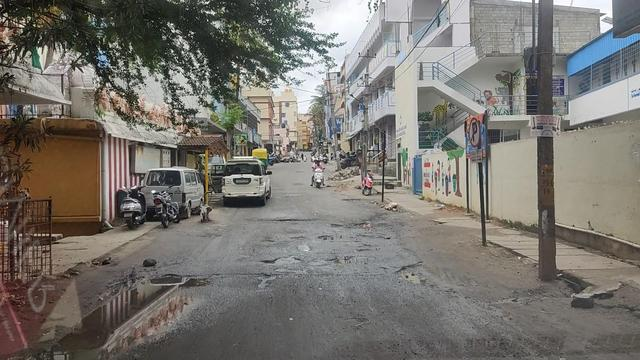LMV: (311, 156, 324, 192)
RoadDamages: (82, 259, 207, 338), (394, 255, 434, 290), (309, 253, 378, 269), (258, 246, 301, 267), (261, 216, 311, 225), (332, 219, 372, 230), (250, 271, 274, 288), (288, 231, 307, 244), (312, 230, 330, 242), (257, 236, 273, 245)
